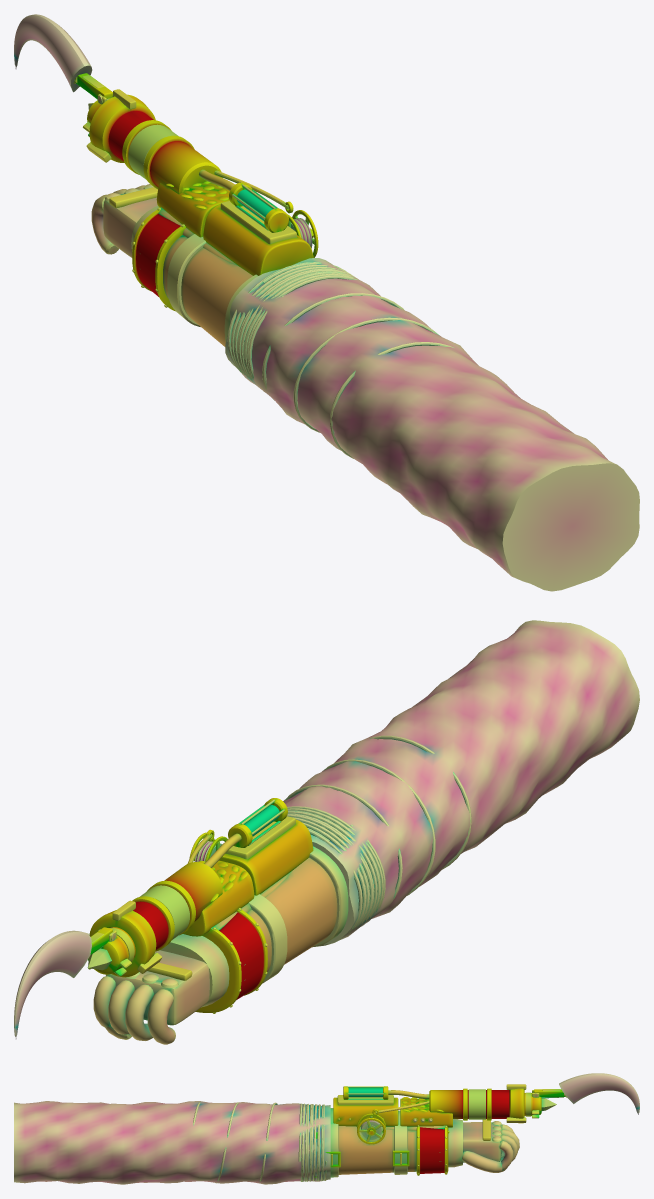
The model's file is fei-zhua.glb.
The picture shows the model from 3 angles, top to bottom: view 1: azimuth 30°, elevation 25°; view 2: azimuth 150°, elevation 25°; view 3: azimuth 270°, elevation 25°; orthographic projection. The views are drawn at different scales.
Visible parts, largest first — view 1: sleeve, housing, bracer, fist, talon; view 2: sleeve, housing, bracer, fist, talon, claw; view 3: sleeve, housing, bracer, fist, talon, spool, claw.
Boxes of the visible parts, x1,y1,x2,y2 form: sleeve: (225, 258, 639, 591); housing: (86, 89, 313, 275); bracer: (132, 207, 257, 346); fist: (91, 184, 159, 257); talon: (14, 14, 112, 103); sleeve: (283, 620, 639, 946); housing: (89, 798, 313, 977); bracer: (195, 846, 348, 1013); fist: (93, 934, 229, 1044); talon: (14, 927, 116, 1039); claw: (87, 927, 135, 976); sleeve: (14, 1101, 330, 1184); housing: (333, 1084, 526, 1133); bracer: (315, 1108, 448, 1177); fist: (448, 1119, 519, 1172); talon: (533, 1073, 639, 1114); spool: (357, 1113, 385, 1144); claw: (524, 1090, 556, 1118).
Size of the model in its own units: 0.1327 by 0.1643 by 0.8896.
